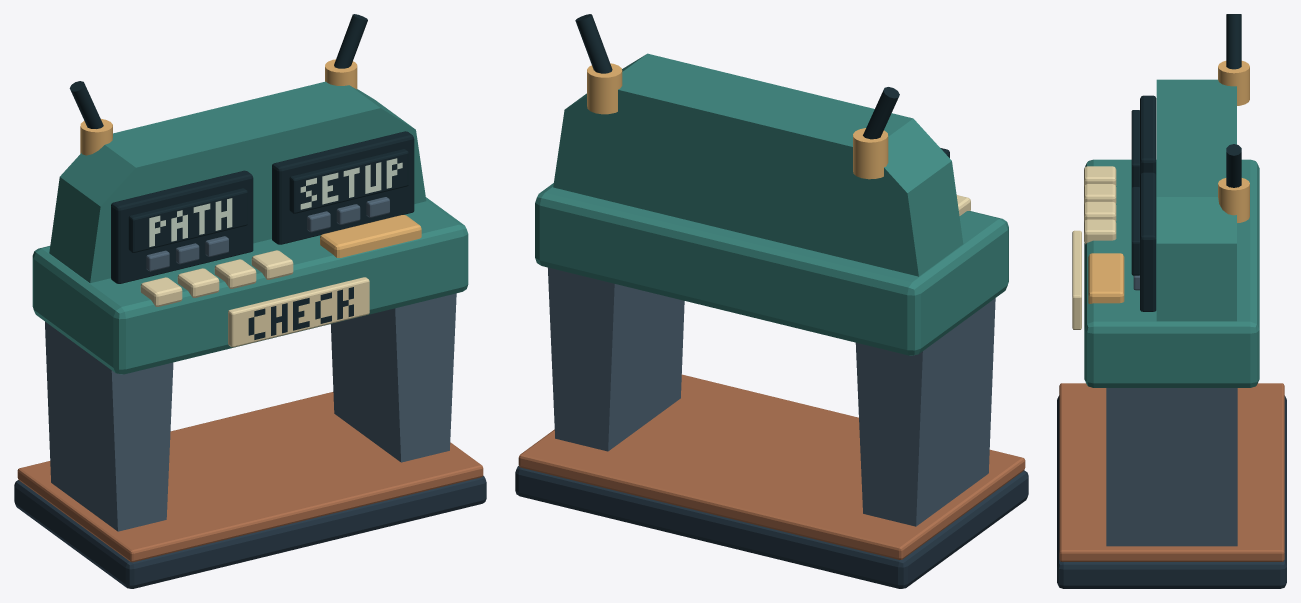
3 views of the same model, side by side, from view 1: azimuth 30°, elevation 25°; view 2: azimuth 150°, elevation 25°; view 3: azimuth 270°, elevation 25° (orthographic). The views are drawn at different scales.
Visible parts, largest first — view 1: PR070 enamel and hardware; view 2: PR070 enamel and hardware; view 3: PR070 enamel and hardware.
Boxes of the visible parts, x1,y1,x2,y2 form: PR070 enamel and hardware: (14, 14, 486, 588); PR070 enamel and hardware: (515, 14, 1028, 588); PR070 enamel and hardware: (1057, 14, 1286, 588).
Size of the model in its own units: 0.9995 by 1.15 by 0.5622.
